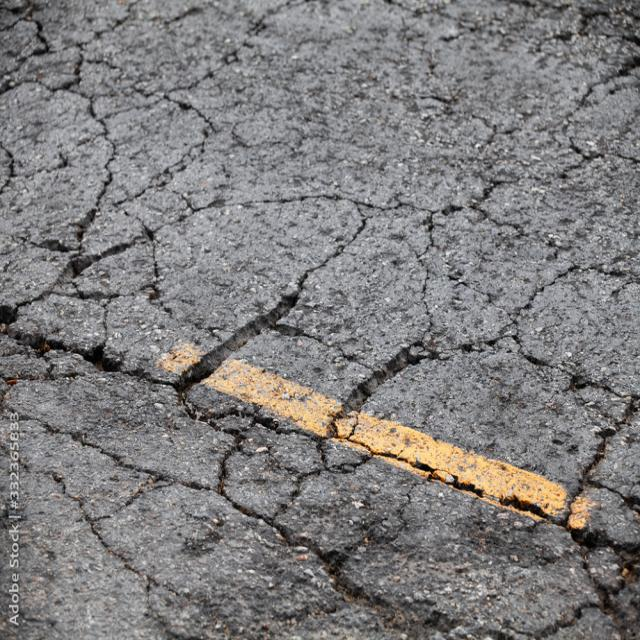Pothole: (8, 311, 640, 640)
